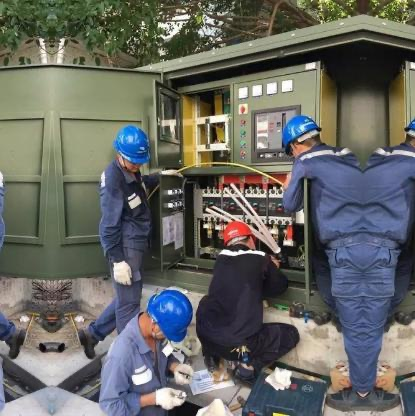Safety Helmet: (140, 285, 201, 351), (278, 113, 326, 164), (112, 118, 151, 175), (215, 217, 258, 264)
